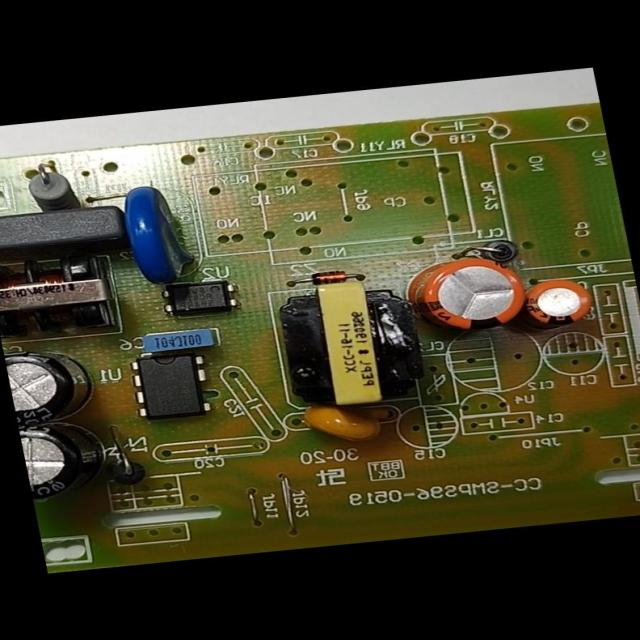Cap1: (426, 258, 528, 330)
Cap2: (528, 278, 592, 320)
Cap3: (3, 344, 92, 418)
Cap4: (19, 422, 112, 496)
MOSFET: (129, 349, 217, 424)
Mov: (116, 182, 202, 282)
Resistor: (26, 160, 81, 207)
Transformer: (280, 279, 425, 408), (0, 252, 116, 335)
